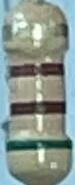Brown: (8, 62, 63, 81), (8, 101, 66, 118)
Green: (7, 138, 71, 153)
Side-Silver: (3, 22, 69, 44)
